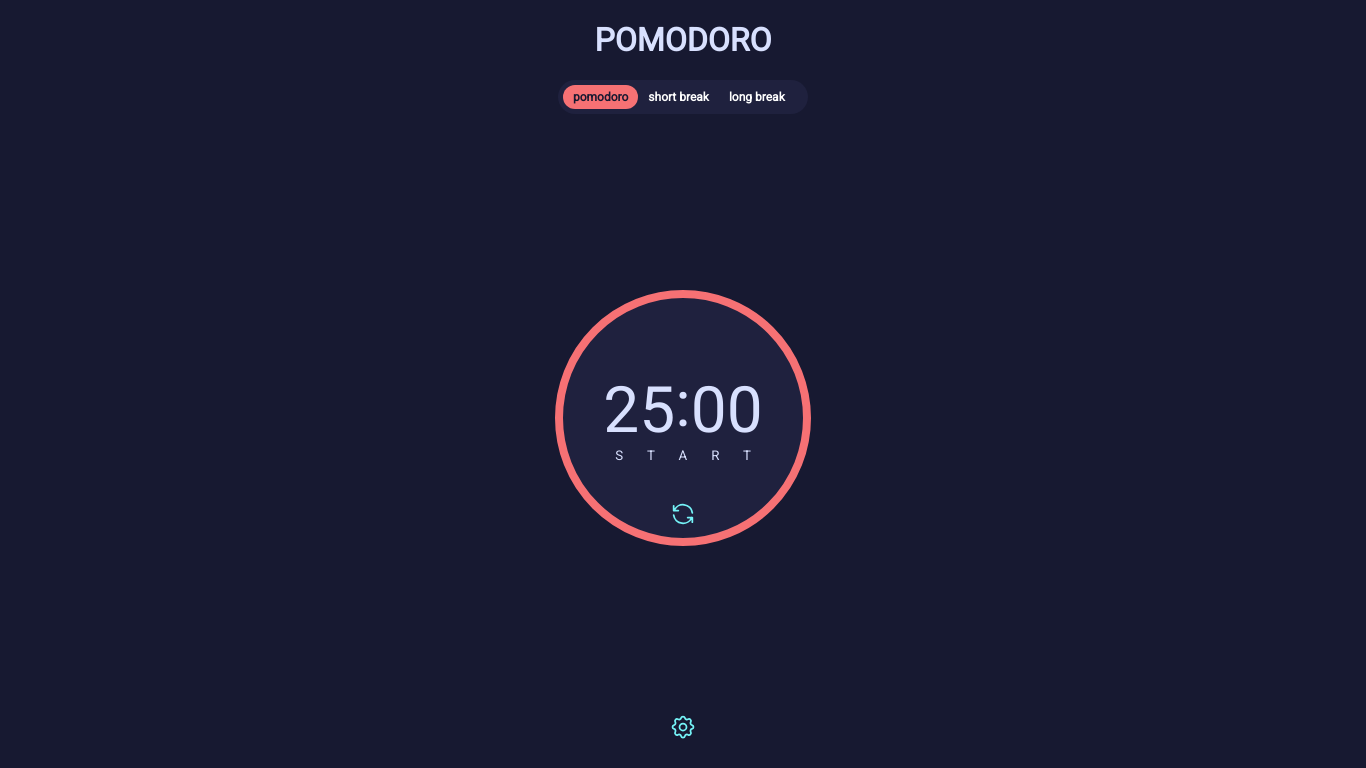
Test: Pomodoro › should change pomodoro time
Click the button with test id "settings" at (683, 728), box [669,712,697,744]
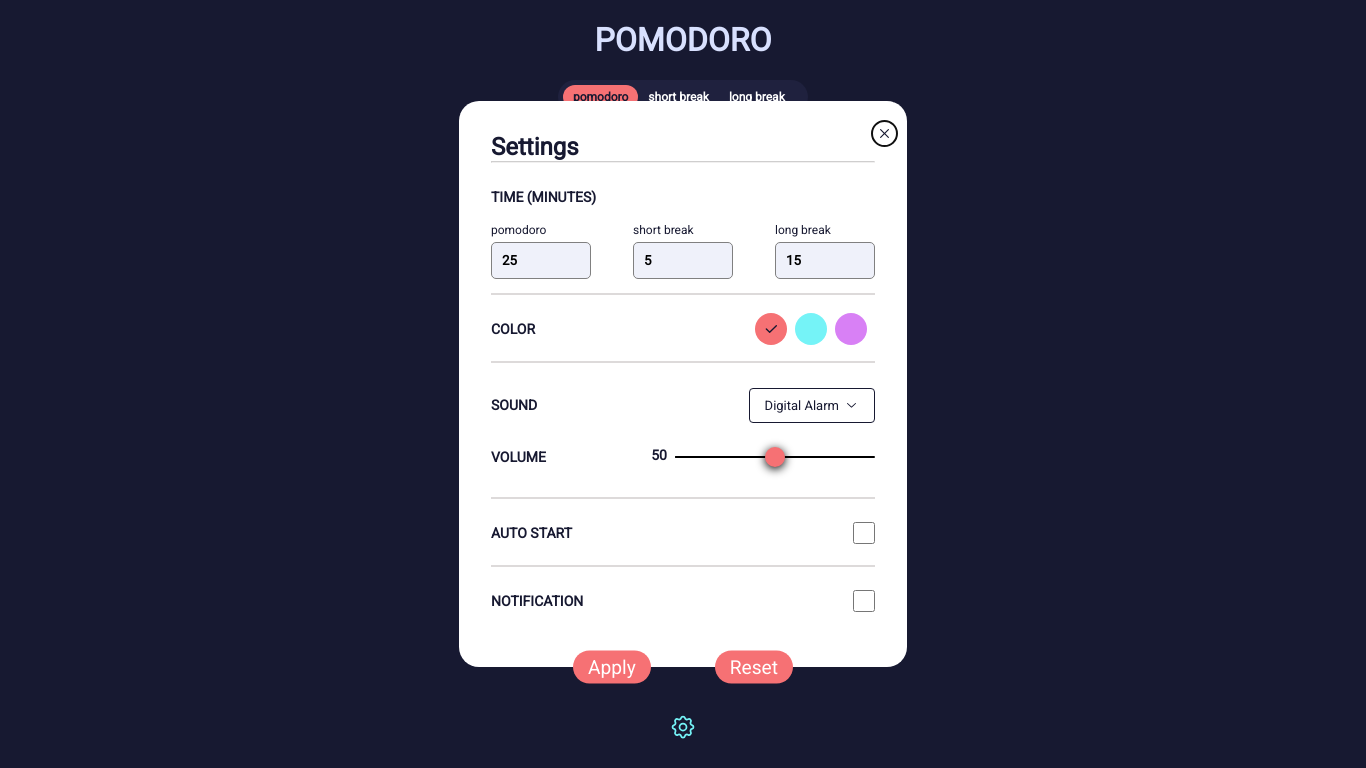
Replace the text in the number field labelled "pomodoro" with "20" at (541, 260), box [491,242,591,279]
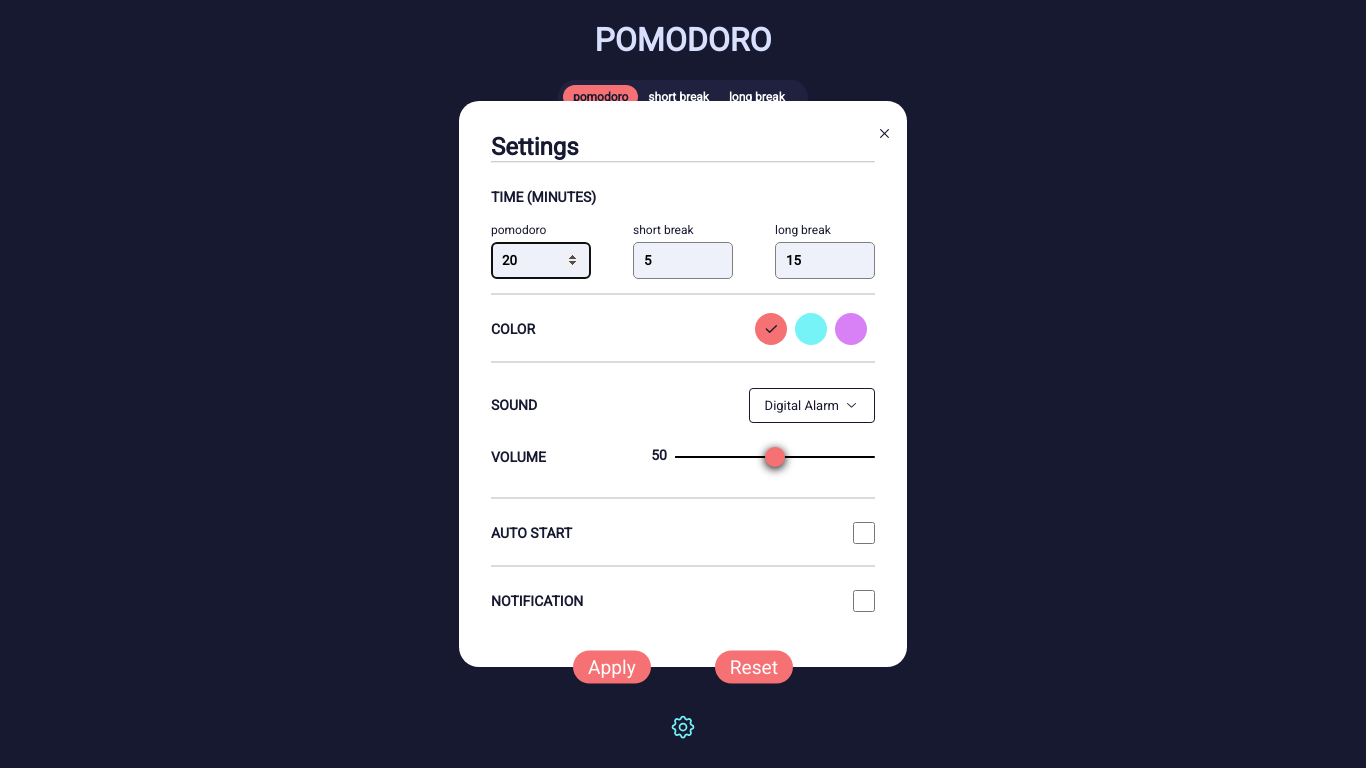
Click the button "Apply" at (612, 667), box [573,650,651,684]
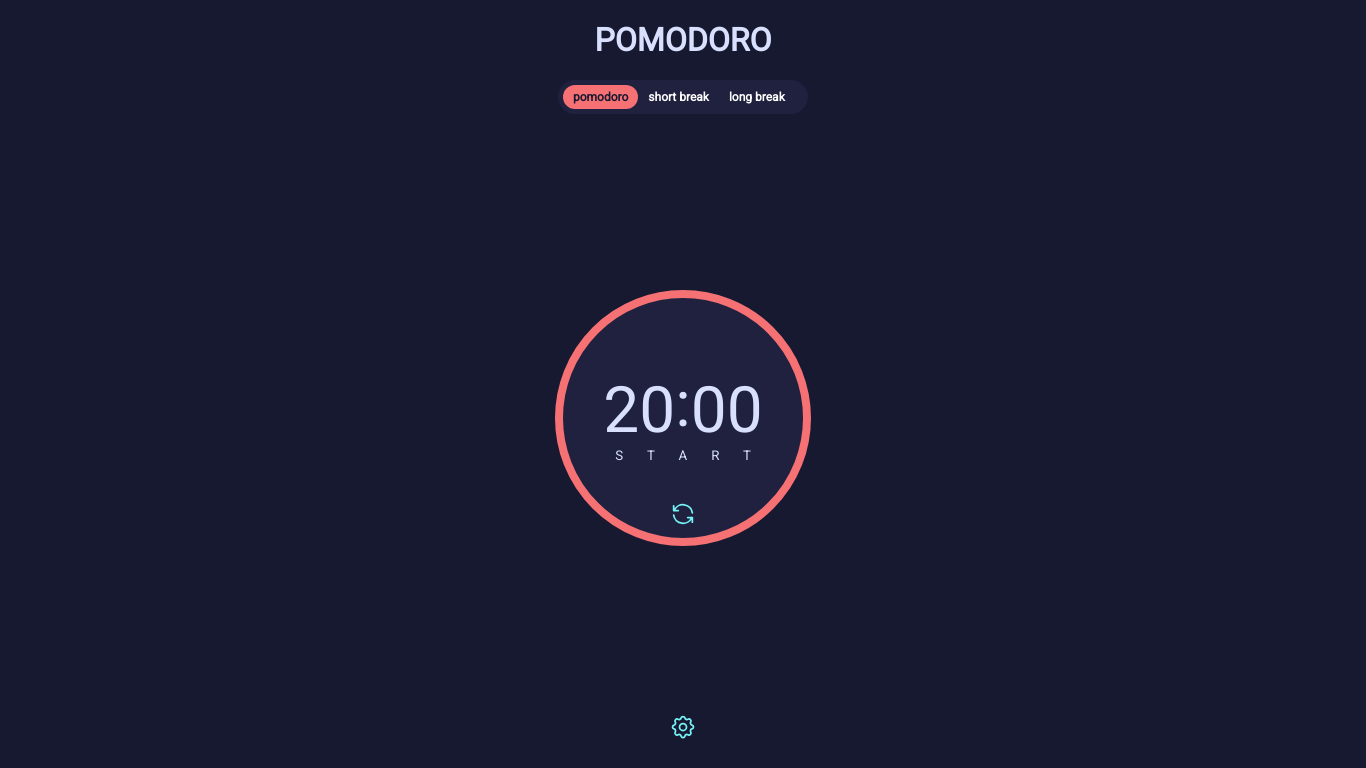
Expected: the element with test id "clock" reads "20:00", [603,373,763,448]
